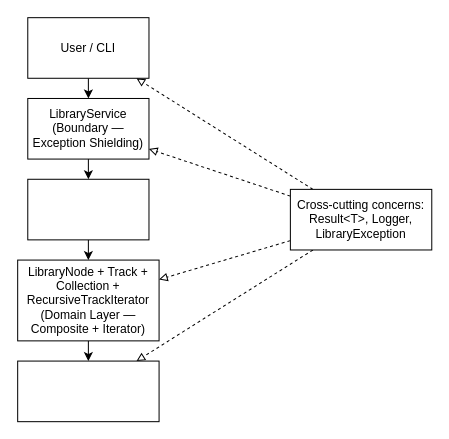
Some shapes in this 449 by 439 pixel diagram are drawn without their labels. The centre of each missing label's shape, as x and y in pixels:
"LibraryNodeFactory (Factory)" belongs at [88,209].
"LibraryRepository + JsonSerializer + JsonDeserializer (Persistence — Java I/O)" belongs at [88,391].
